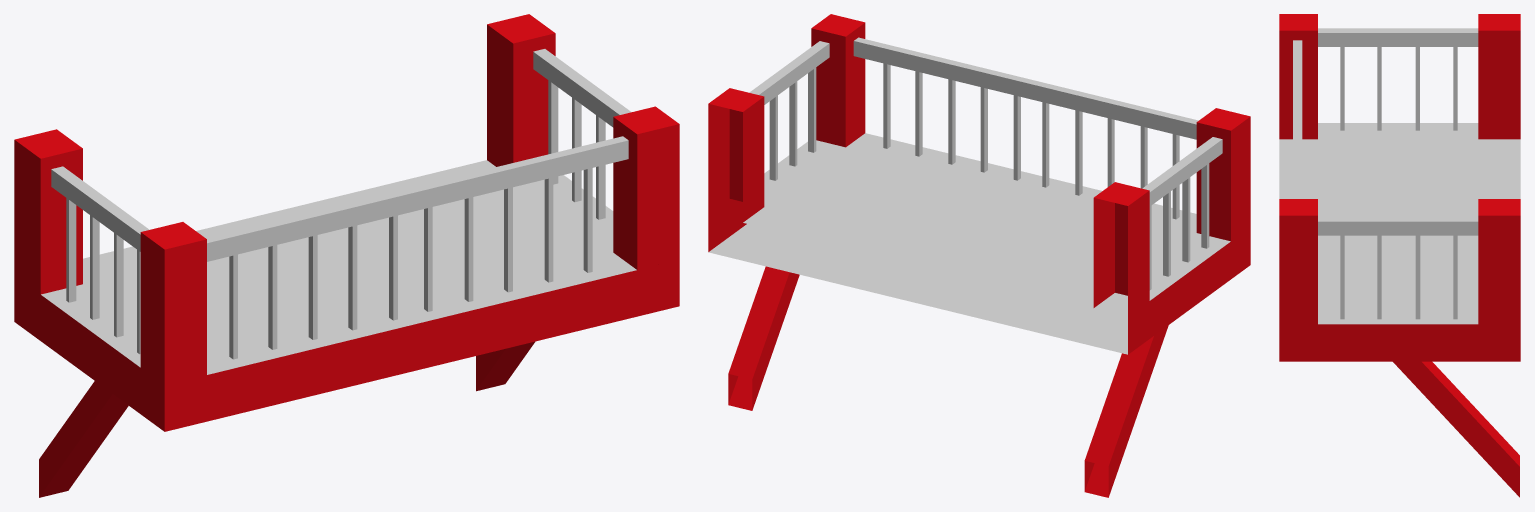
Rendered from arch_balcony.glb.
3 renders of one model, left to right at view 1: azimuth 30°, elevation 25°; view 2: azimuth 150°, elevation 25°; view 3: azimuth 270°, elevation 25°, orthographic. The views are drawn at different scales.
Visible parts, largest first — view 1: mesh; view 2: mesh; view 3: mesh.
Boxes of the visible parts, x1,y1,x2,y2 form: mesh: (14, 14, 679, 497); mesh: (708, 14, 1250, 497); mesh: (1279, 14, 1520, 497).
Bounding box in the file's own units: 5.92 × 4 × 2.99.
